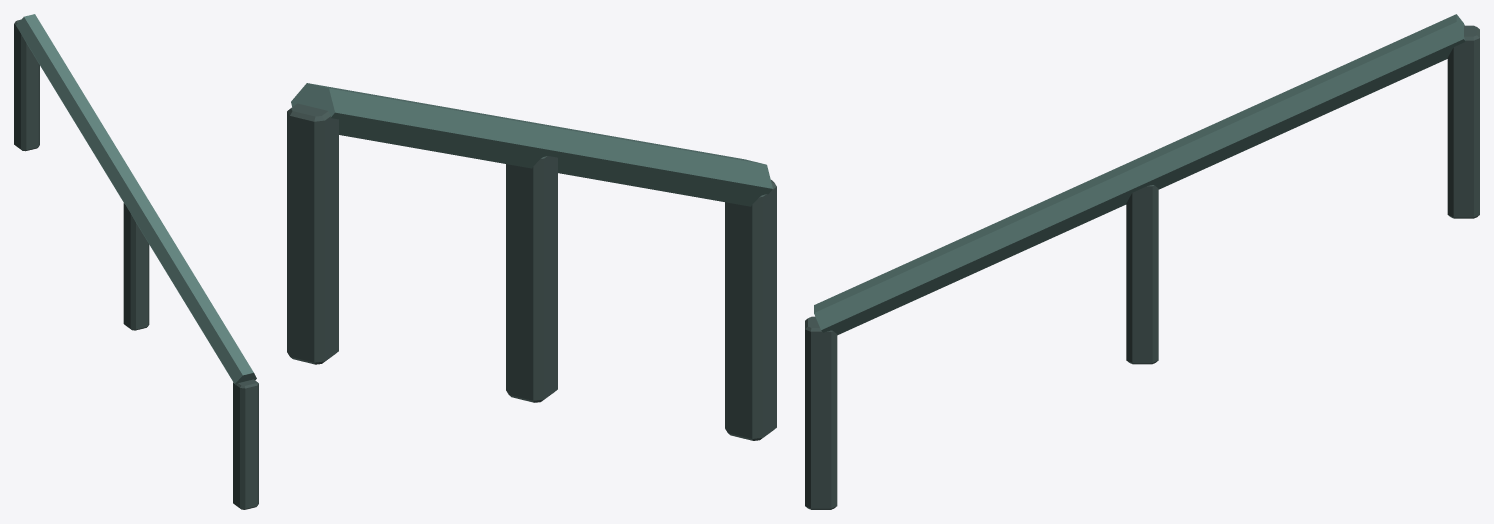
Rendered from stair-rail.glb.
The picture shows the model from 3 angles, left to right: view 1: azimuth 30°, elevation 25°; view 2: azimuth 150°, elevation 25°; view 3: azimuth 270°, elevation 25°; orthographic projection. The views are drawn at different scales.
Parts seen in each view (by area): view 1: stair-rail__body; view 2: stair-rail__body; view 3: stair-rail__body.
Part boxes in pixels (left/top/right/bottom): stair-rail__body: left=14, top=14, right=258, bottom=509; stair-rail__body: left=287, top=83, right=776, bottom=440; stair-rail__body: left=805, top=14, right=1479, bottom=509.
Size of the model in its own units: 0.14 by 2 by 2.52.
